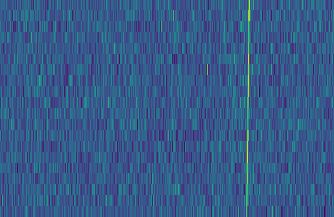signal: (243, 0, 254, 217)
